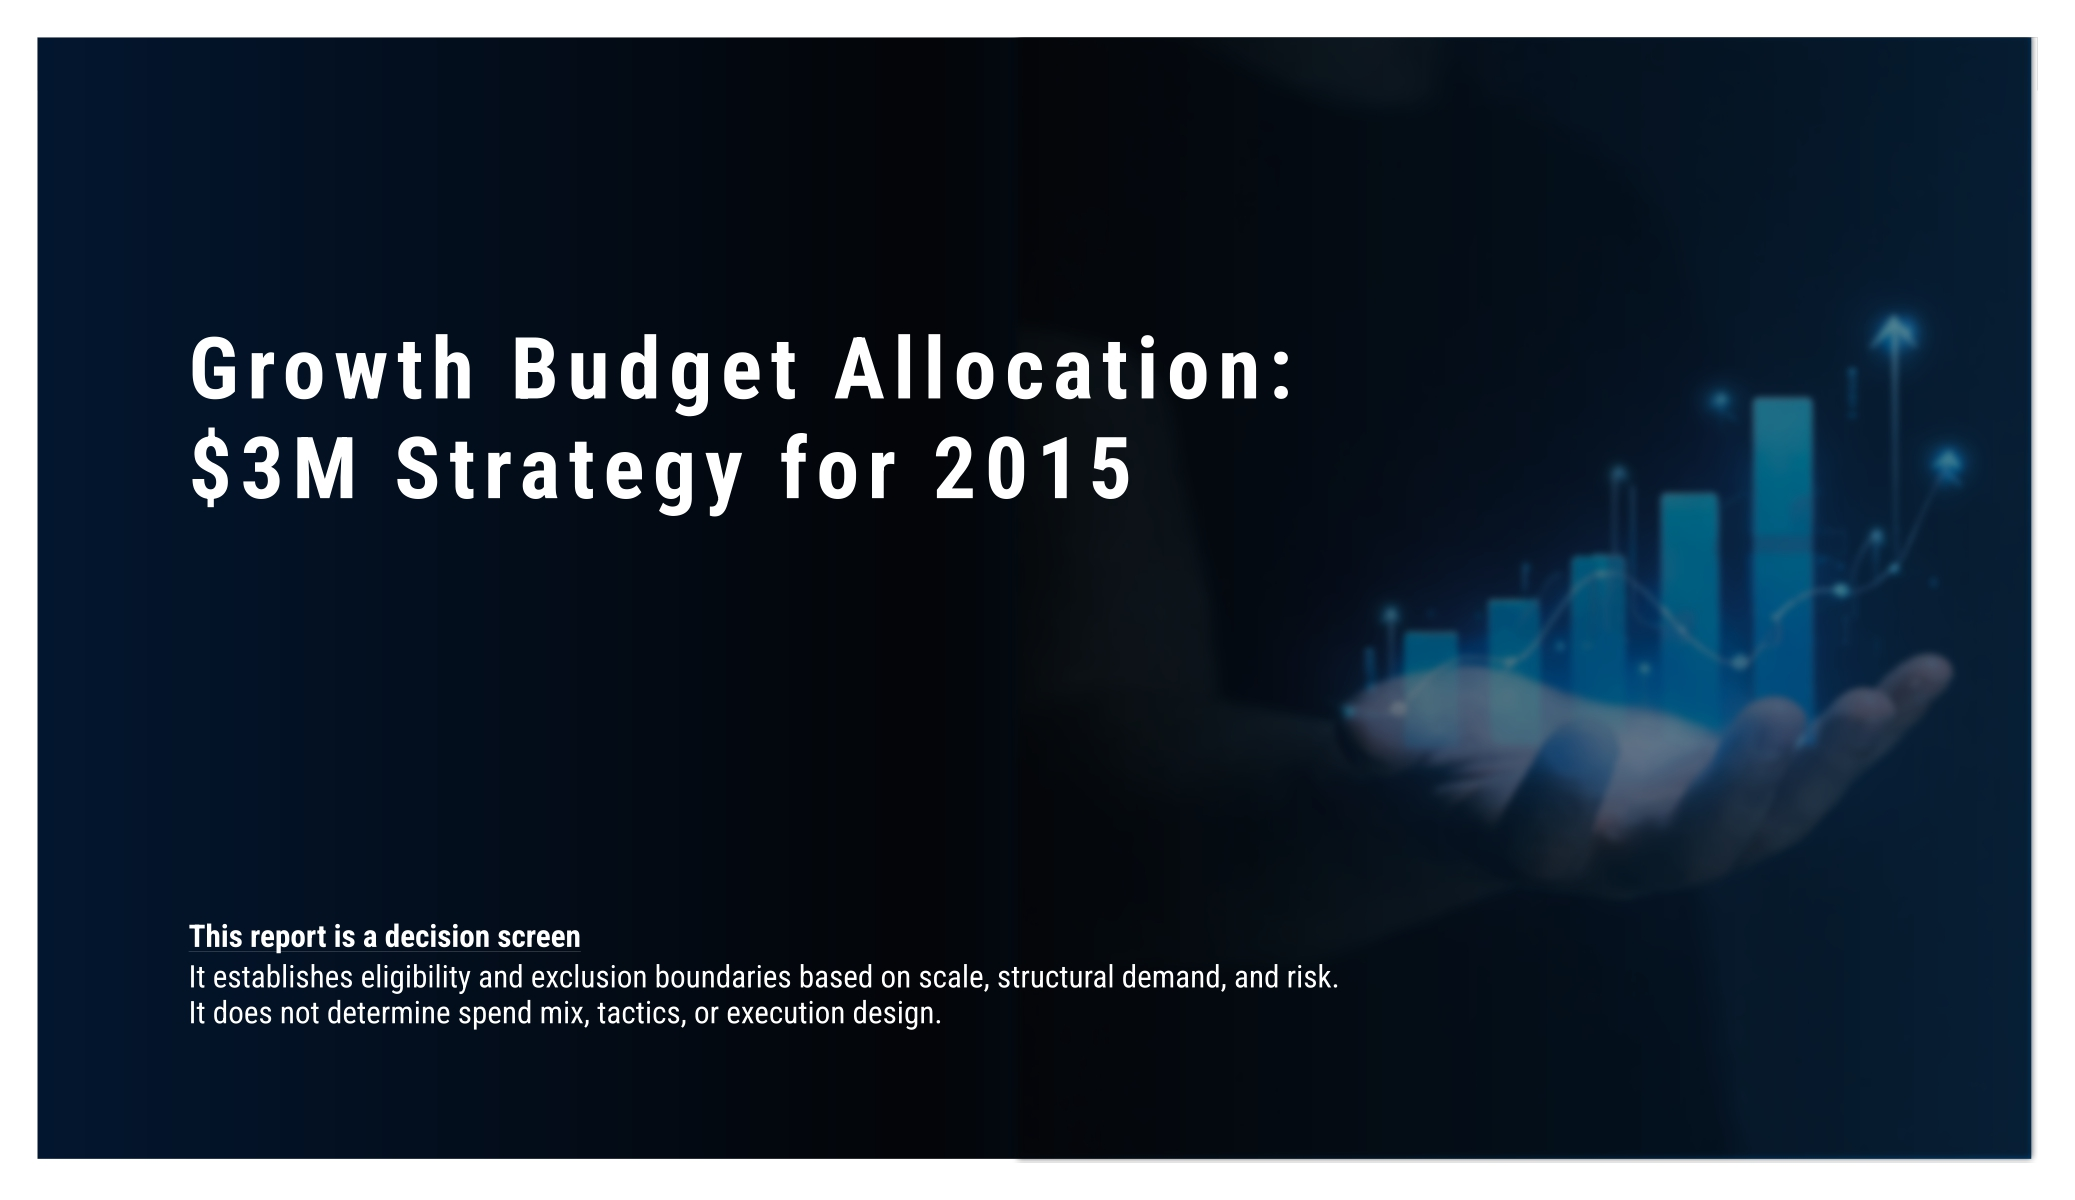

This screenshot's page, from the dashboard's own definition file:
{"tool":"powerbi","page":{"name":"Project Title","canvas":[1280,720],"ordinal":0},"visuals":[{"type":"textbox","box":[16.6,10.7,154.4,33.9],"z":0}]}

Visuals, with their boxes in screenshot pixels (x1, y1, x2, y2):
textbox: select_region(63, 54, 305, 107)
